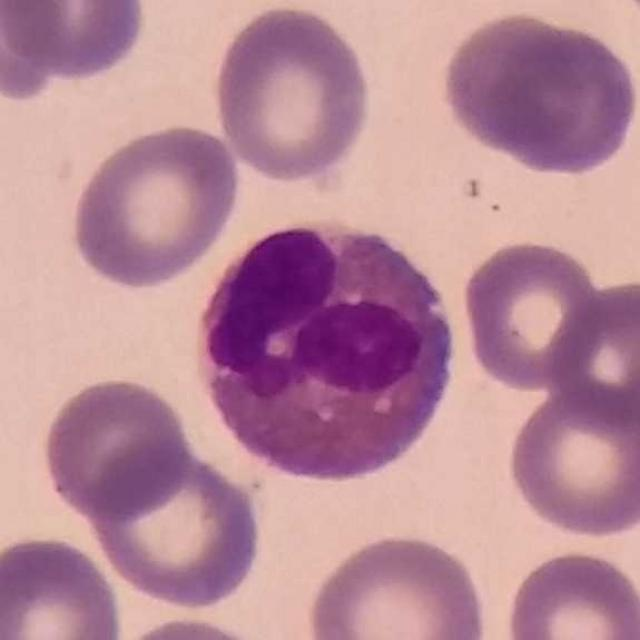Eosinophil: (184, 234, 463, 493)
RBC: (84, 440, 267, 612), (66, 118, 245, 290), (209, 1, 376, 185), (457, 235, 608, 393), (38, 372, 194, 524), (503, 381, 639, 541), (439, 12, 586, 158), (301, 528, 492, 640), (494, 31, 639, 175), (543, 276, 640, 429), (0, 531, 127, 640), (500, 545, 640, 640), (1, 0, 151, 87), (0, 1, 70, 106), (108, 612, 283, 640)
